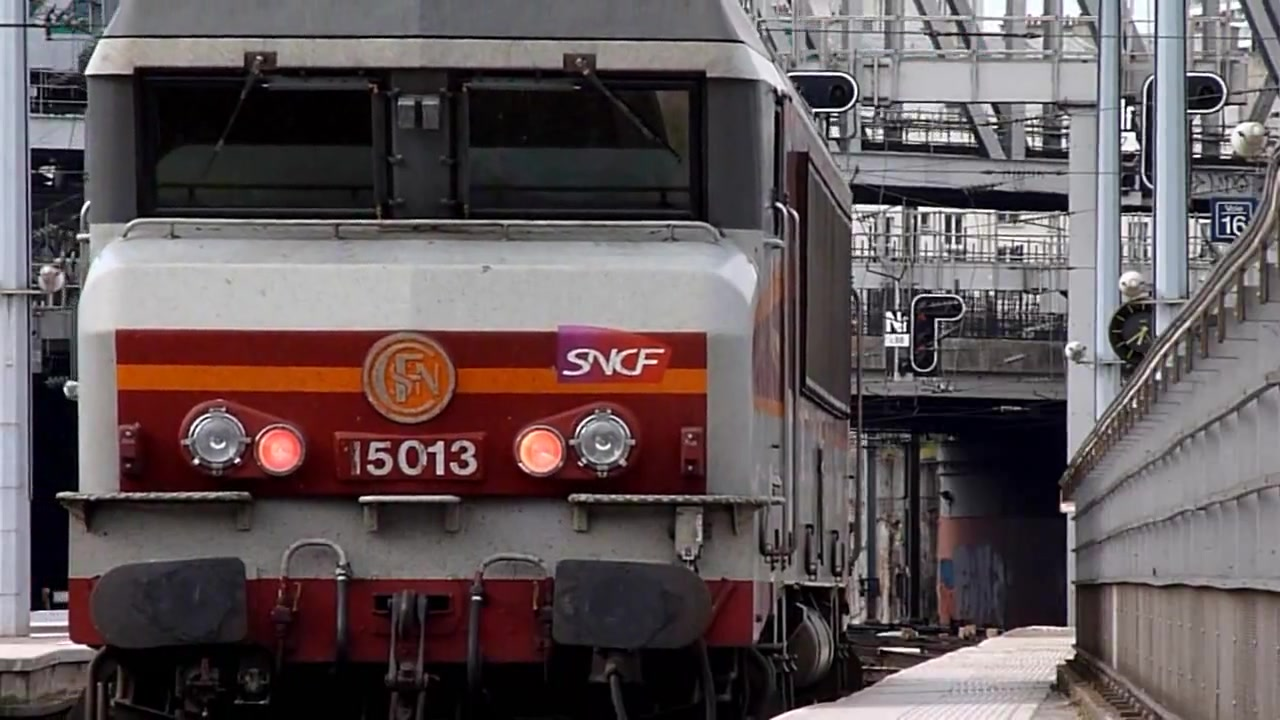train: (63, 1, 861, 720)
